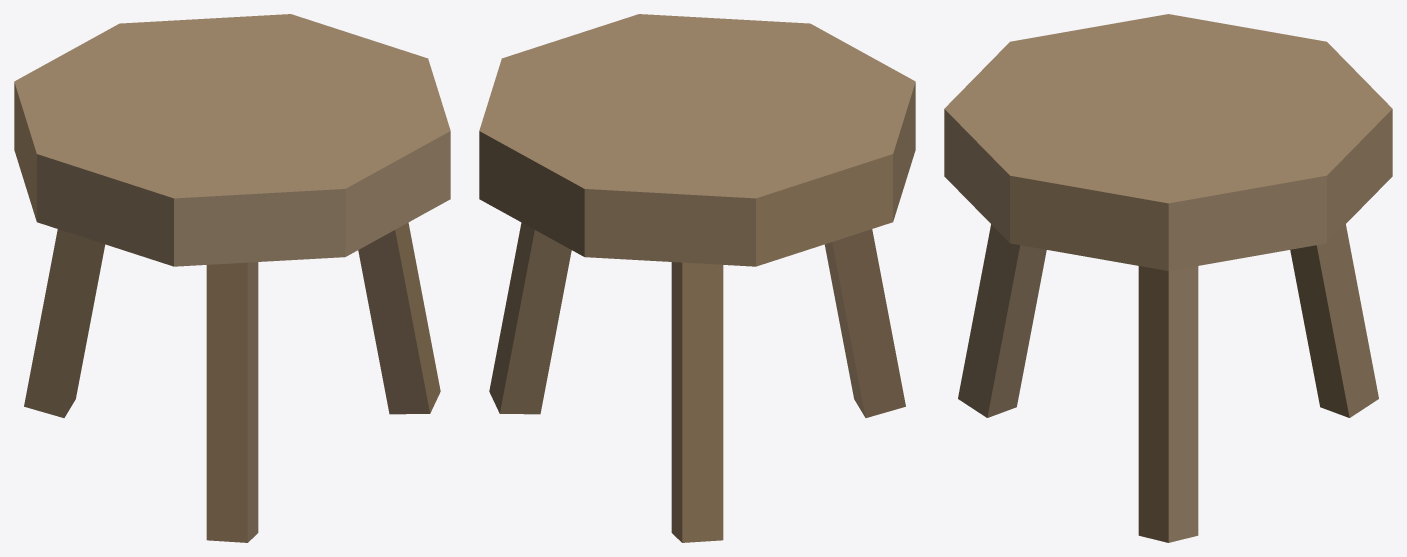
The model's file is furn_chair.glb.
3 views of the same model, side by side, from view 1: azimuth 30°, elevation 25°; view 2: azimuth 150°, elevation 25°; view 3: azimuth 270°, elevation 25° (orthographic).
Parts seen in each view (by area): view 1: furn_chair2; view 2: furn_chair2; view 3: furn_chair2.
Part boxes in pixels (x1,y1,x2,y2): furn_chair2: [14, 14, 450, 542]; furn_chair2: [479, 14, 915, 542]; furn_chair2: [944, 14, 1392, 542].
Bounding box in the file's own units: 0.6193 × 0.5075 × 0.6.
